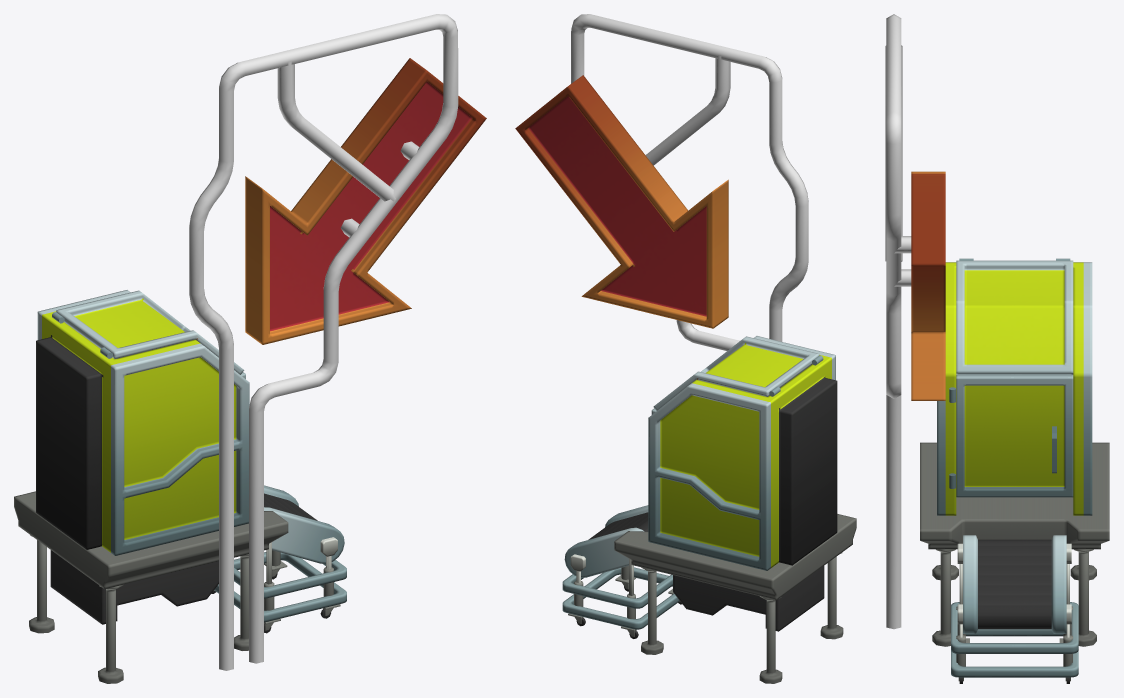
File: SM_dropoff_zone.fbx
3 views of the same model, side by side, from view 1: azimuth 30°, elevation 25°; view 2: azimuth 150°, elevation 25°; view 3: azimuth 270°, elevation 25° (orthographic). The views are drawn at different scales.
Visible parts, largest first — view 1: SM_dropoff_zone, Plane.004, Plane.005, Cube.001, Cube.004, Cube.005, Cube.002, Plane.001, Circle.003, Plane, Circle.002, Circle; view 2: SM_dropoff_zone, Plane.004, Plane.005, Cube.001, Cube.004, Cube.005, Cube.002, Plane.001, Plane, Circle.002, Circle.003, Circle.001 (+1 smaller); view 3: Cube.003, Cube.004, Plane.005, Cube.001, SM_dropoff_zone, Plane.004, Cube.009, Cube.002, Plane.001, Plane, Circle.001, Circle (+1 smaller).
Part boxes in pixels (bbox=[...]): SM_dropoff_zone: bbox=[36, 290, 249, 555]; Plane.004: bbox=[245, 58, 486, 344]; Plane.005: bbox=[189, 14, 458, 670]; Cube.001: bbox=[14, 491, 288, 589]; Cube.004: bbox=[56, 290, 244, 374]; Cube.005: bbox=[50, 550, 218, 624]; Cube.002: bbox=[264, 485, 344, 563]; Plane.001: bbox=[214, 552, 346, 622]; Circle.003: bbox=[98, 584, 123, 683]; Plane: bbox=[234, 560, 346, 598]; Circle.002: bbox=[29, 535, 54, 633]; Circle: bbox=[234, 554, 248, 650]; SM_dropoff_zone: bbox=[648, 336, 837, 570]; Plane.004: bbox=[515, 75, 728, 328]; Plane.005: bbox=[571, 14, 808, 350]; Cube.001: bbox=[614, 514, 856, 600]; Cube.004: bbox=[653, 336, 819, 410]; Cube.005: bbox=[673, 566, 824, 631]; Cube.002: bbox=[564, 505, 648, 577]; Plane.001: bbox=[562, 567, 679, 629]; Plane: bbox=[562, 574, 672, 608]; Circle.002: bbox=[759, 596, 782, 683]; Circle.003: bbox=[820, 552, 843, 639]; Circle.001: bbox=[641, 567, 663, 654]; Cube.003: bbox=[956, 375, 1073, 497]; Cube.004: bbox=[956, 260, 1073, 374]; Plane.005: bbox=[885, 14, 911, 629]; Cube.001: bbox=[920, 442, 1109, 549]; SM_dropoff_zone: bbox=[937, 262, 1092, 515]; Plane.004: bbox=[911, 171, 945, 400]; Cube.009: bbox=[978, 539, 1051, 629]; Cube.002: bbox=[963, 535, 1066, 633]; Plane.001: bbox=[951, 629, 1078, 677]; Plane: bbox=[951, 602, 1078, 653]; Circle.001: bbox=[1074, 549, 1096, 646]; Circle: bbox=[932, 549, 955, 646].
Size of the model in its own units: 250 by 390 by 130.
